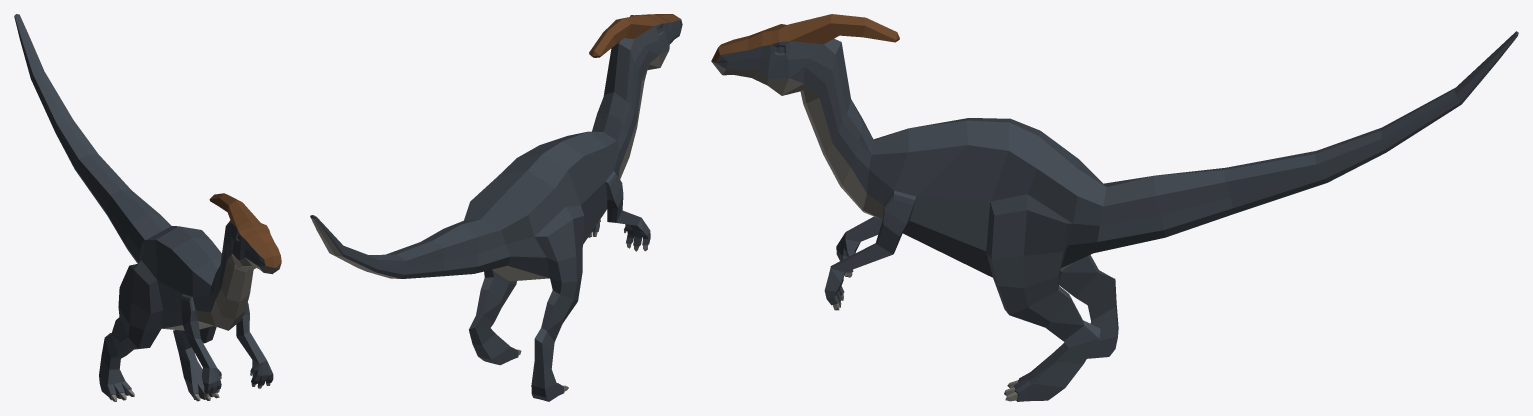
Rendered from cc0-parasaurolophus-lod0.glb.
The picture shows the model from 3 angles, left to right: view 1: azimuth 30°, elevation 25°; view 2: azimuth 150°, elevation 25°; view 3: azimuth 270°, elevation 25°; orthographic projection. The views are drawn at different scales.
Parts seen in each view (by area): view 1: part_0; view 2: part_0; view 3: part_0.
Boxes of the visible parts, x1,y1,x2,y2 form: part_0: (14,14,281,401); part_0: (310,14,682,401); part_0: (711,14,1518,401).
Size of the model in its own units: 1.96 by 5.76 by 11.79.
